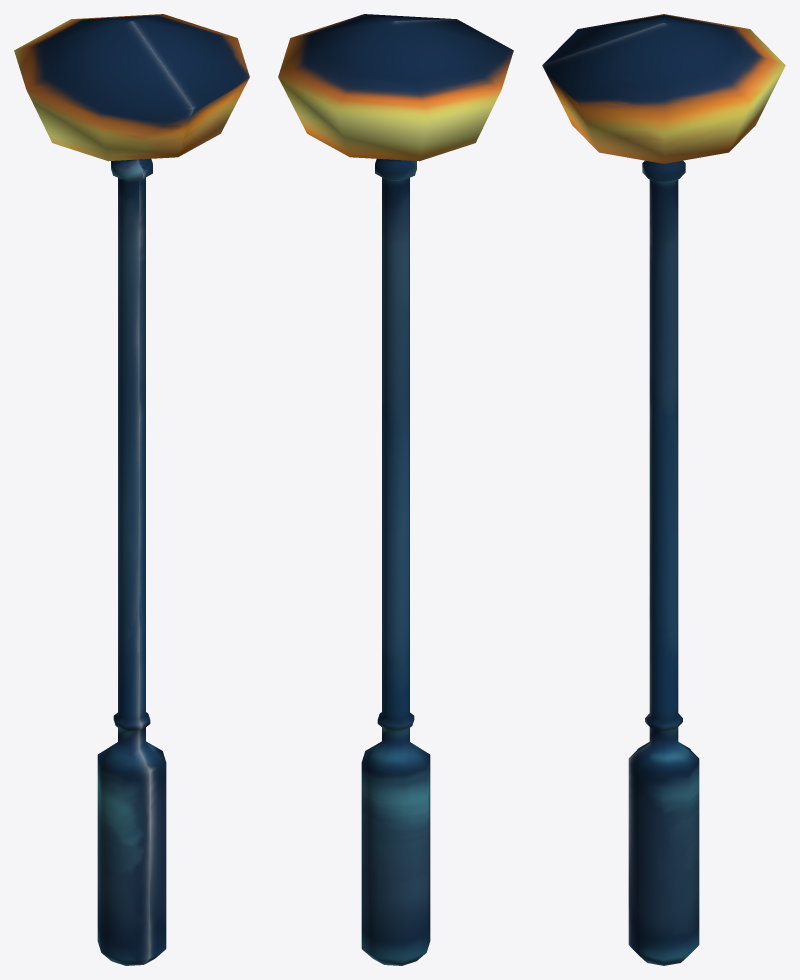
File: pole.fbx
The picture shows the model from 3 angles, left to right: view 1: azimuth 30°, elevation 25°; view 2: azimuth 150°, elevation 25°; view 3: azimuth 270°, elevation 25°; orthographic projection.
Visible parts, largest first — view 1: pCylinder4; view 2: pCylinder4; view 3: pCylinder4.
Part boxes in pixels (x1,y1,x2,y2): pCylinder4: (14,14,249,965); pCylinder4: (278,14,513,965); pCylinder4: (542,14,785,965).
Size of the model in its own units: 2.36 by 9.98 by 2.36.
